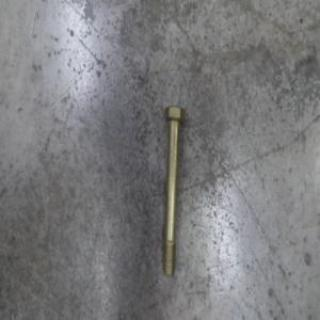Bolttrack_idkeyframe: (161, 102, 185, 278)
